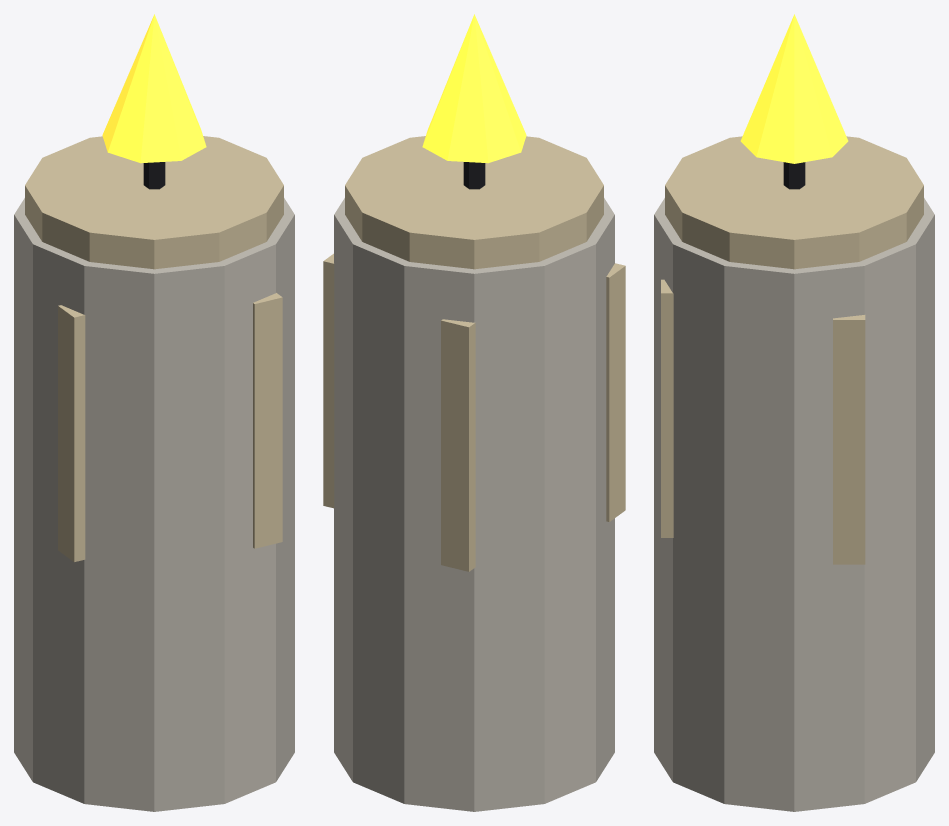
Rendered from candle.glb.
3 views of the same model, side by side, from view 1: azimuth 30°, elevation 25°; view 2: azimuth 150°, elevation 25°; view 3: azimuth 270°, elevation 25° (orthographic).
Visible parts, largest first — view 1: candle; view 2: candle; view 3: candle.
Boxes of the visible parts, x1,y1,x2,y2 form: candle: (14, 14, 294, 811); candle: (323, 14, 625, 811); candle: (654, 14, 934, 811).
Size of the model in its own units: 0.052 by 0.151 by 0.052.
